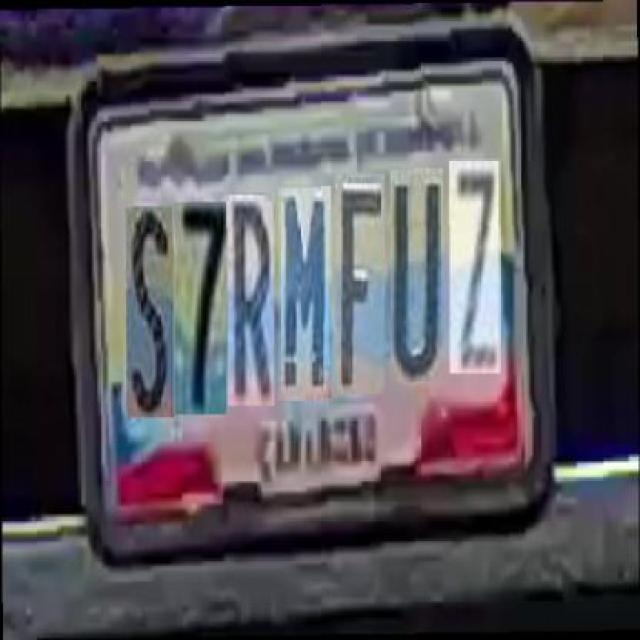7: (174, 196, 226, 410)
f: (336, 171, 384, 391)
m: (278, 182, 331, 396)
r: (226, 190, 274, 402)
s: (125, 200, 173, 412)
u: (389, 166, 443, 380)
z: (448, 158, 499, 372)
